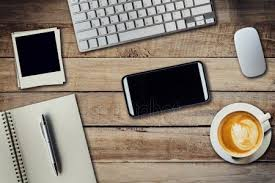mobil: (119, 58, 211, 118)
